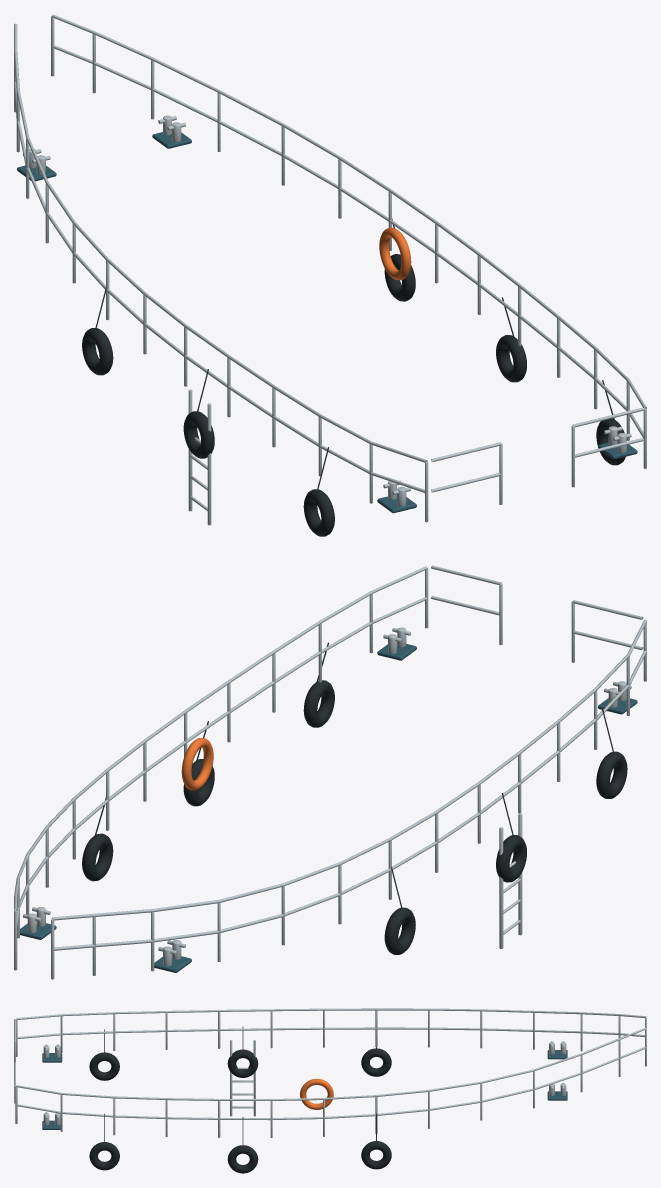
Rendered from coastal_rails_mooring.glb.
3 renders of one model, top to bottom at view 1: azimuth 30°, elevation 25°; view 2: azimuth 150°, elevation 25°; view 3: azimuth 270°, elevation 25°, orthographic. The views are drawn at different scales.
Visible parts, largest first — view 1: Swept safety rail.003, Swept safety rail.002, Swept safety rail.001, Swept safety rail, Hanging tyre fender.002, Hanging tyre fender, Hanging tyre fender.004, Hanging tyre fender.001, Lifebuoy, Hanging tyre fender.005; view 2: Swept safety rail.001, Swept safety rail, Swept safety rail.003, Swept safety rail.002, Hanging tyre fender, Hanging tyre fender.005, Hanging tyre fender.002, Hanging tyre fender.003, Hanging tyre fender.001, Lifebuoy, Hanging tyre fender.004; view 3: Swept safety rail.001, Swept safety rail, Swept safety rail.003, Swept safety rail.002, Hanging tyre fender.003, Hanging tyre fender.004, Hanging tyre fender, Hanging tyre fender.002, Hanging tyre fender.005, Hanging tyre fender.001, Lifebuoy.
Part boxes in pixels (x1,y1,x2,y2): Swept safety rail.003: [51, 14, 646, 408]; Swept safety rail.002: [52, 45, 643, 438]; Swept safety rail.001: [14, 23, 427, 462]; Swept safety rail: [14, 81, 425, 492]; Hanging tyre fender.002: [82, 328, 113, 375]; Hanging tyre fender: [303, 489, 334, 536]; Hanging tyre fender.004: [496, 335, 526, 382]; Hanging tyre fender.001: [183, 411, 214, 458]; Lifebuoy: [379, 227, 411, 280]; Hanging tyre fender.005: [384, 254, 415, 301]; Swept safety rail.001: [51, 619, 646, 920]; Swept safety rail: [53, 650, 646, 950]; Swept safety rail.003: [14, 566, 427, 910]; Swept safety rail.002: [17, 597, 427, 925]; Hanging tyre fender: [596, 751, 627, 798]; Hanging tyre fender.005: [82, 833, 113, 881]; Hanging tyre fender.002: [384, 907, 415, 954]; Hanging tyre fender.003: [303, 680, 334, 727]; Hanging tyre fender.001: [496, 835, 526, 882]; Lifebuoy: [181, 738, 213, 790]; Hanging tyre fender.004: [183, 759, 214, 806]; Swept safety rail.001: [16, 1008, 646, 1019]; Swept safety rail: [17, 1027, 644, 1038]; Swept safety rail.003: [16, 1027, 646, 1100]; Swept safety rail.002: [16, 1047, 645, 1120]; Hanging tyre fender.003: [89, 1142, 119, 1170]; Hanging tyre fender.004: [227, 1145, 258, 1173]; Hanging tyre fender: [89, 1052, 119, 1080]; Hanging tyre fender.002: [361, 1048, 391, 1076]; Hanging tyre fender.005: [361, 1141, 391, 1169]; Hanging tyre fender.001: [227, 1049, 258, 1077]; Lifebuoy: [300, 1078, 333, 1109].
Bounding box in the file's own units: 4.92 × 3.28 × 13.27.
